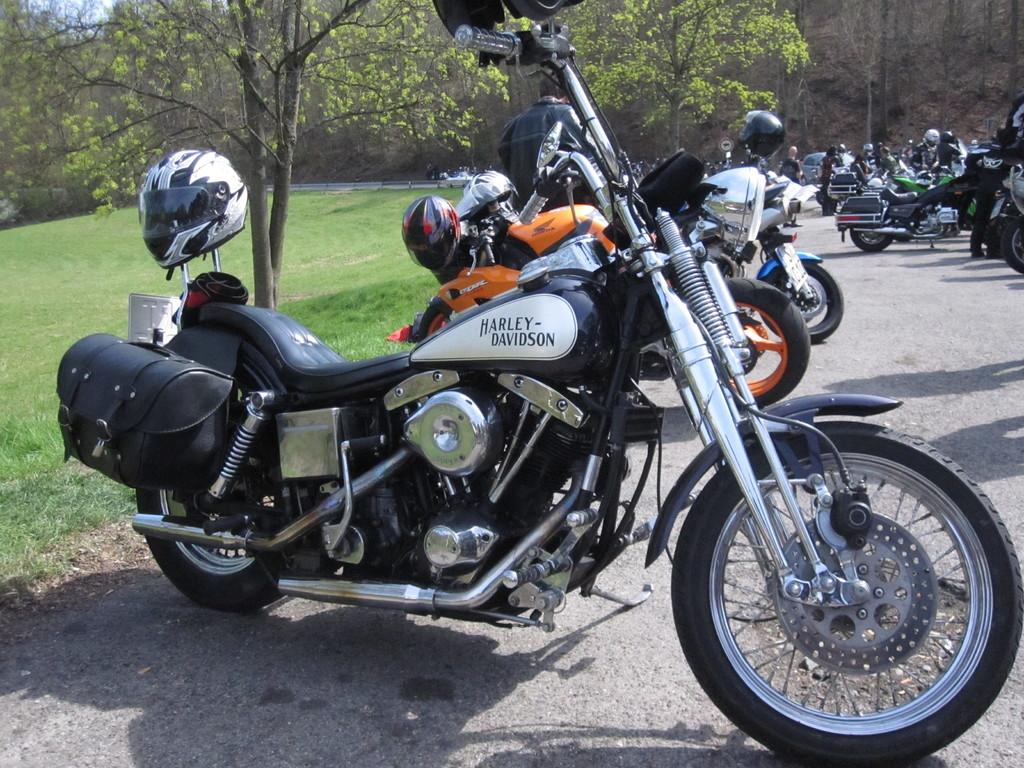helmet: (138, 148, 249, 270), (401, 194, 462, 272), (736, 109, 786, 161), (922, 128, 941, 152), (837, 143, 846, 154)
nohelmet: (788, 145, 798, 160), (880, 146, 891, 158), (827, 146, 837, 158)
